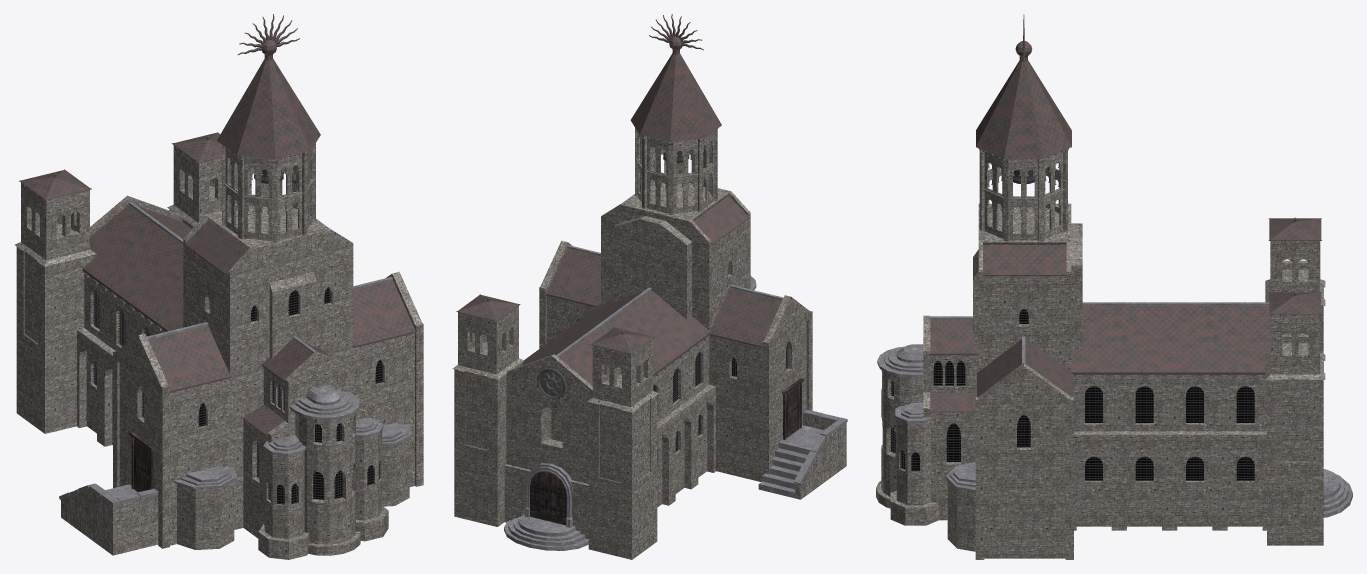
File: building-chapel.glb
The picture shows the model from 3 angles, left to right: view 1: azimuth 30°, elevation 25°; view 2: azimuth 150°, elevation 25°; view 3: azimuth 270°, elevation 25°; orthographic projection. The views are drawn at different scales.
Visible parts, largest first — view 1: ChapelArchitecture; view 2: ChapelArchitecture; view 3: ChapelArchitecture.
Boxes of the visible parts, box(x1,y1,x2,y2) form: ChapelArchitecture: box(14, 14, 423, 559); ChapelArchitecture: box(452, 14, 847, 559); ChapelArchitecture: box(876, 14, 1352, 559).
Bounding box in the file's own units: 12.41 × 18.77 × 16.92.
Materials: 12 (11 with a texture image).
